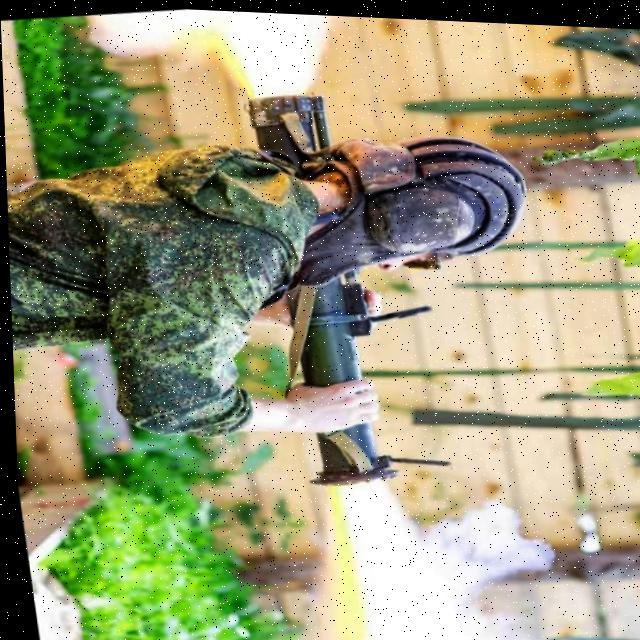rocket: (235, 80, 394, 488)
